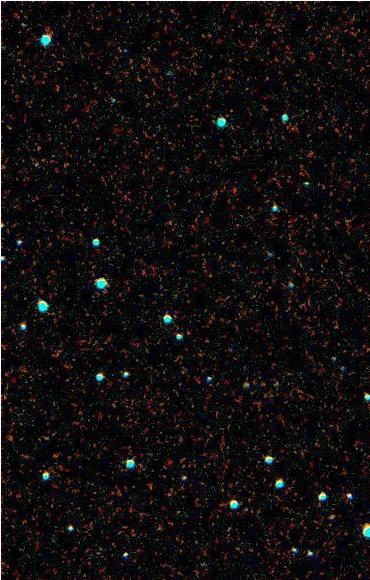star: (245, 369, 275, 399)
